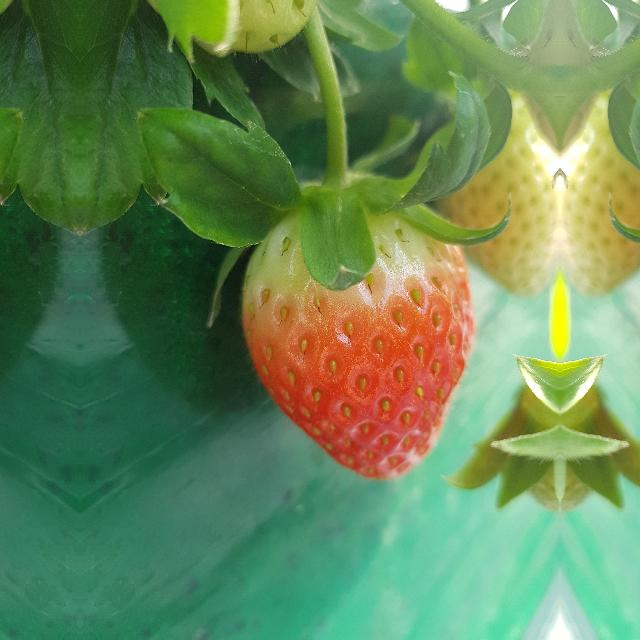Health_75: (239, 193, 477, 481)
